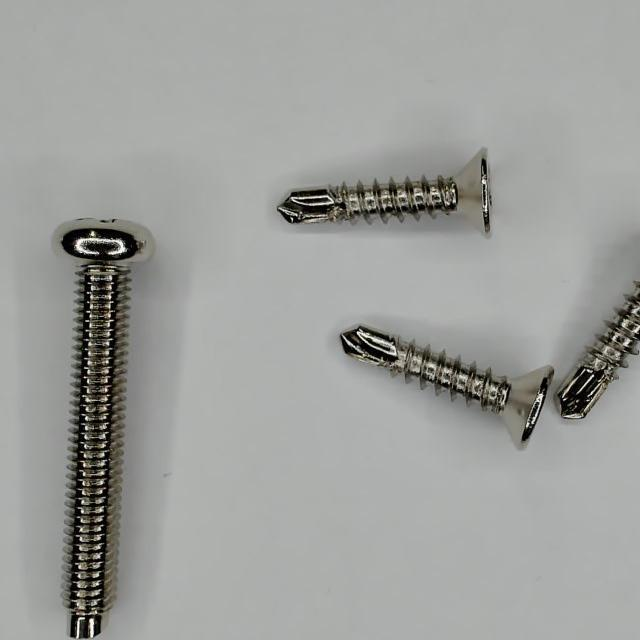Screw: (52, 219, 154, 640), (342, 326, 553, 448), (277, 147, 492, 234), (557, 282, 640, 420)
